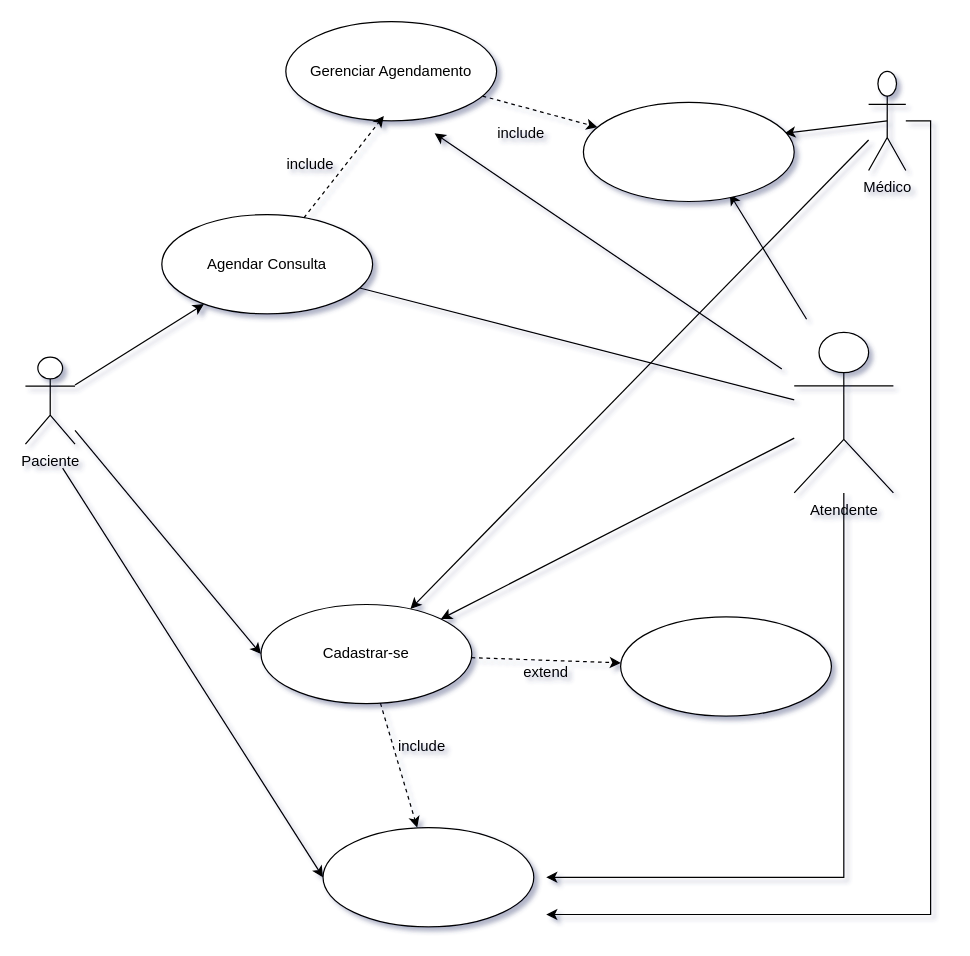
This 970x956 diagram has some shape labels left out. The shapes that lost their labels are listed below. From the top down, each one's centre as x and y in pixels, then its label:
(x=688, y=151): Visualizar consultas do dia
(x=725, y=666): atualizar dados pessoais
(x=428, y=876): login
